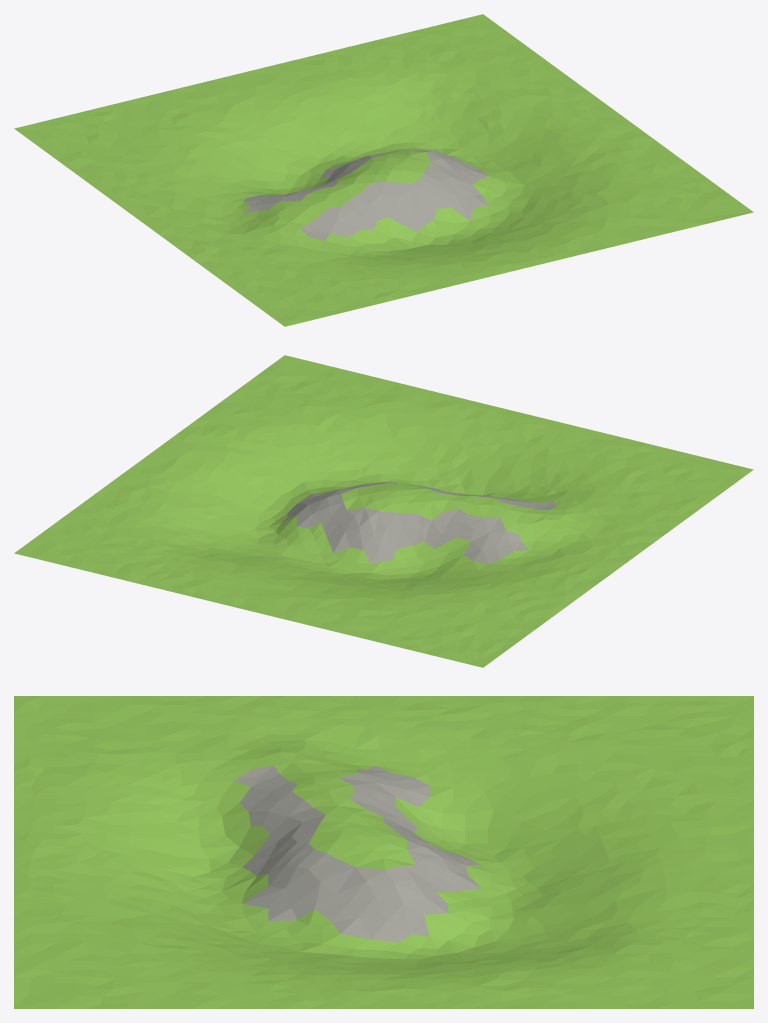
The model's file is terrain_l_c_08.glb.
The picture shows the model from 3 angles, top to bottom: view 1: azimuth 30°, elevation 25°; view 2: azimuth 150°, elevation 25°; view 3: azimuth 270°, elevation 25°; orthographic projection. The views are drawn at different scales.
Parts seen in each view (by area): view 1: CPT_Terrain_L_c_08; view 2: CPT_Terrain_L_c_08; view 3: CPT_Terrain_L_c_08.
Part boxes in pixels (x1=…): CPT_Terrain_L_c_08: x1=14, y1=14, x2=753, y2=326; CPT_Terrain_L_c_08: x1=14, y1=355, x2=753, y2=667; CPT_Terrain_L_c_08: x1=14, y1=696, x2=753, y2=1008.
Size of the model in its own units: 100 by 7.64 by 100.
1 material, 1 textured.
